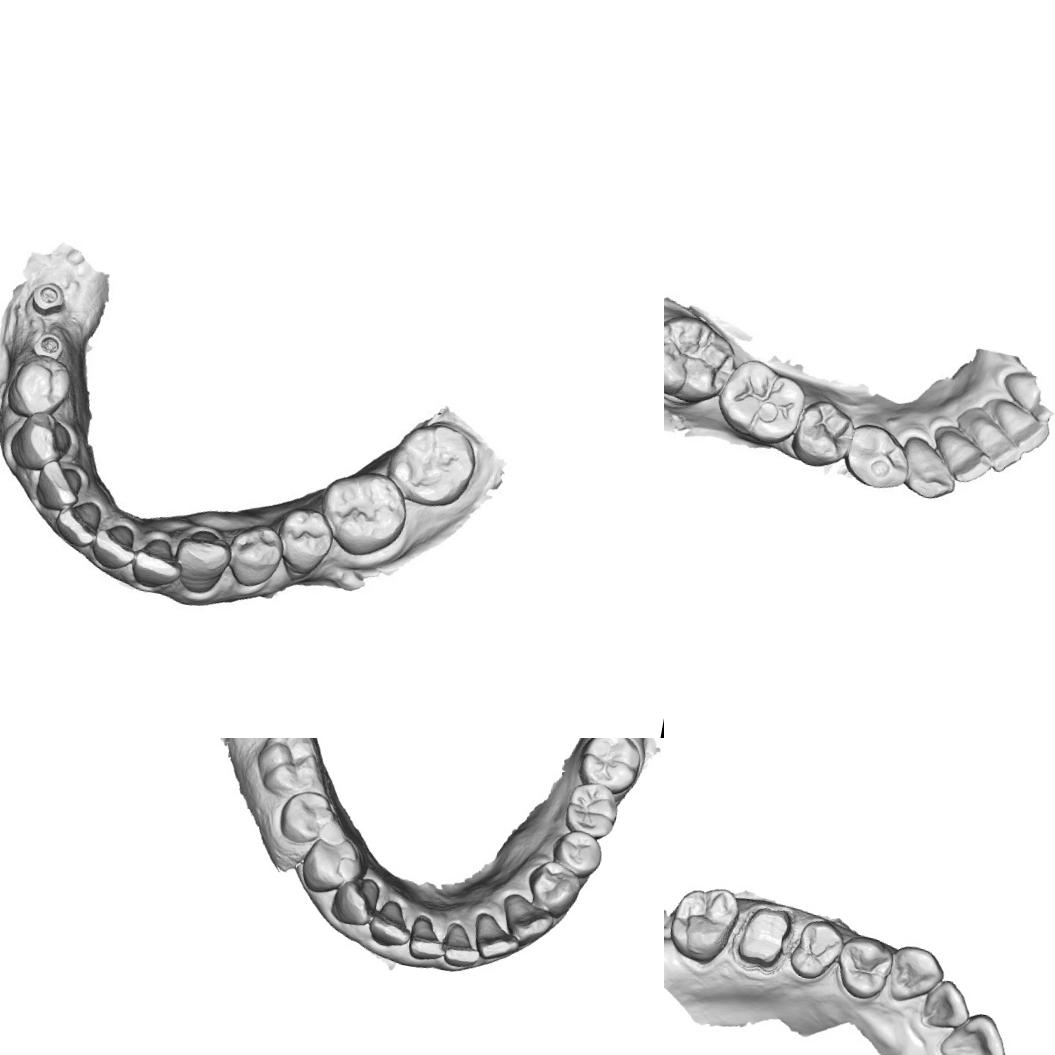canine: (168, 517, 234, 599), (8, 407, 81, 476), (882, 941, 949, 1011), (894, 434, 958, 500), (326, 869, 384, 931), (497, 890, 558, 946)
crown: (728, 897, 798, 977)
implant: (25, 275, 70, 317), (27, 319, 70, 361)
incisor: (926, 423, 994, 487), (936, 1006, 1015, 1055), (28, 454, 90, 514), (962, 410, 1024, 469), (127, 538, 188, 596), (918, 974, 975, 1034), (47, 494, 107, 550), (466, 909, 524, 966), (989, 396, 1050, 450), (87, 518, 138, 572), (364, 899, 413, 949), (438, 920, 485, 970), (402, 914, 446, 964)
molar: (385, 412, 482, 514), (314, 464, 412, 562), (717, 357, 804, 440), (664, 880, 739, 968), (664, 313, 733, 399), (250, 738, 328, 802), (560, 776, 624, 844), (576, 738, 643, 792)
premolar: (0, 350, 77, 422), (832, 930, 897, 1004), (296, 832, 364, 899), (225, 522, 287, 594), (273, 785, 341, 850), (786, 914, 846, 985), (522, 856, 585, 918), (845, 426, 907, 487), (277, 508, 335, 572), (794, 398, 850, 461), (548, 828, 608, 878)
